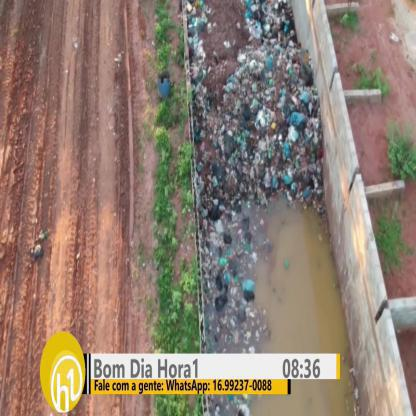agua: (264, 213, 333, 342)
lixo: (193, 4, 320, 200)
